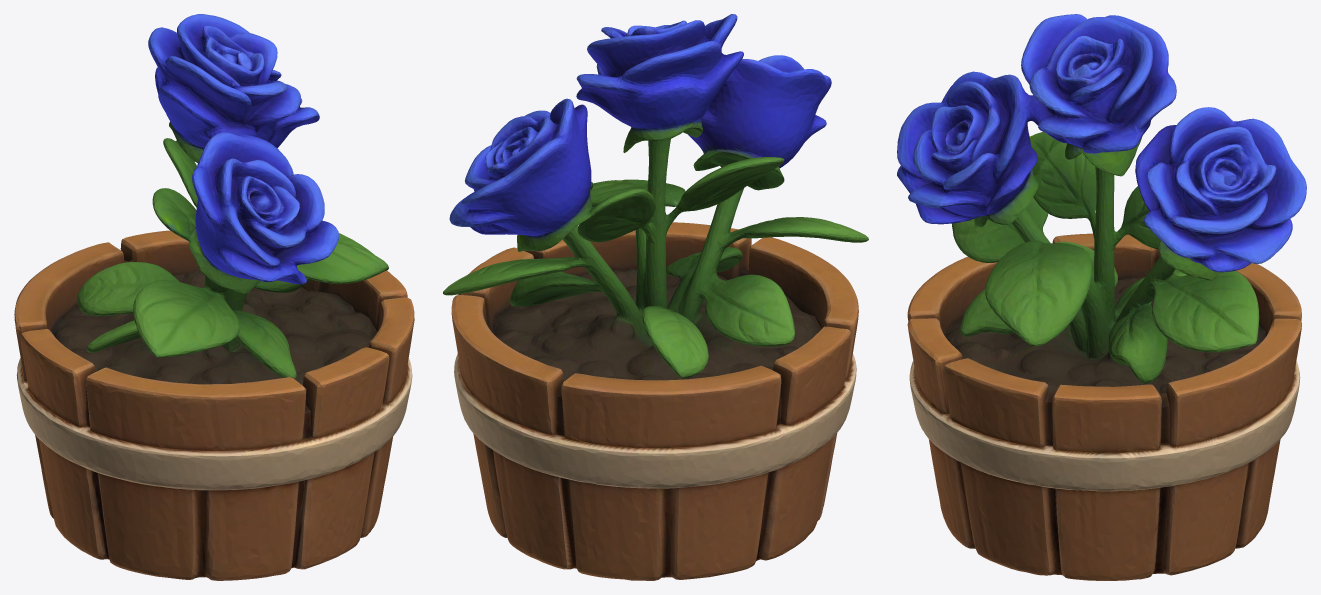
File: flower_6.glb
The picture shows the model from 3 angles, left to right: view 1: azimuth 30°, elevation 25°; view 2: azimuth 150°, elevation 25°; view 3: azimuth 270°, elevation 25°; orthographic projection. The views are drawn at different scales.
Visible parts, largest first — view 1: tripo_node_8ebefb7b-4f98-406d-ba00-1376e5a15344; view 2: tripo_node_8ebefb7b-4f98-406d-ba00-1376e5a15344; view 3: tripo_node_8ebefb7b-4f98-406d-ba00-1376e5a15344.
Boxes of the visible parts, bbox=[...] form: tripo_node_8ebefb7b-4f98-406d-ba00-1376e5a15344: bbox=[14, 14, 414, 580]; tripo_node_8ebefb7b-4f98-406d-ba00-1376e5a15344: bbox=[443, 14, 868, 580]; tripo_node_8ebefb7b-4f98-406d-ba00-1376e5a15344: bbox=[897, 14, 1306, 580].
Bounding box in the file's own units: 0.739 × 0.9998 × 0.769.
1 material, 1 textured.
